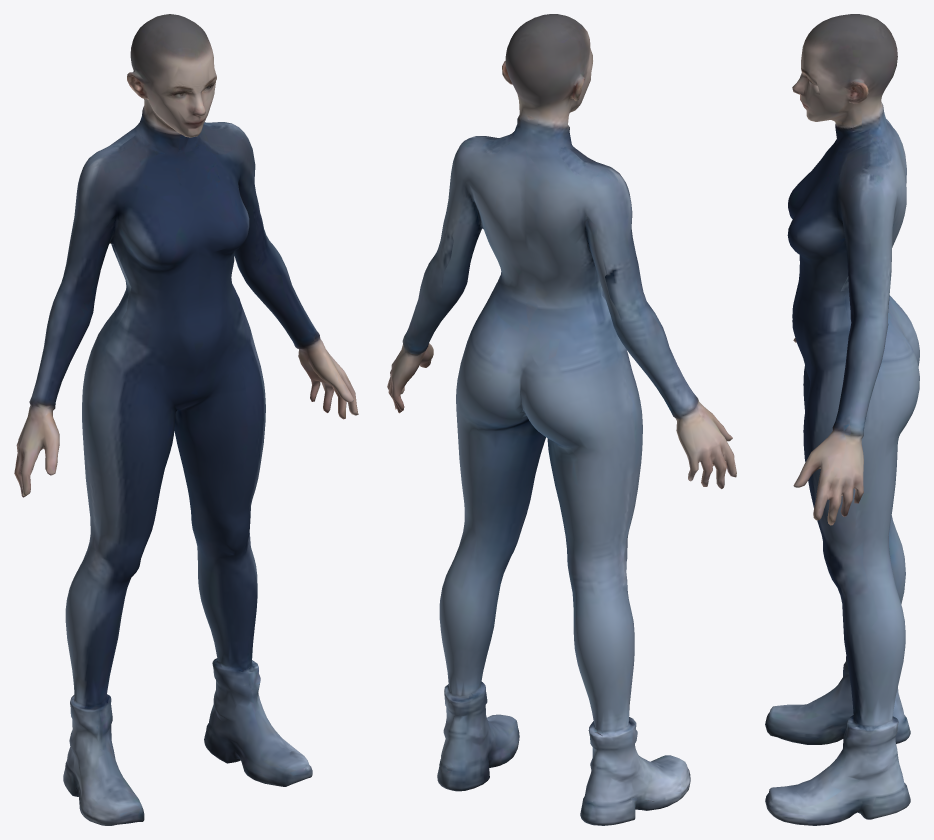
File: base_body_f.glb
3 views of the same model, side by side, from view 1: azimuth 30°, elevation 25°; view 2: azimuth 150°, elevation 25°; view 3: azimuth 270°, elevation 25° (orthographic).
Parts seen in each view (by area): view 1: base_body_f; view 2: base_body_f; view 3: base_body_f.
Boxes of the visible parts, x1=… form: base_body_f: x1=14, y1=14, x2=358, y2=825; base_body_f: x1=387, y1=14, x2=736, y2=825; base_body_f: x1=765, y1=14, x2=919, y2=825.
Bounding box in the file's own units: 0.8506 × 1.85 × 0.3418.
Materials: 1 (1 with a texture image).
